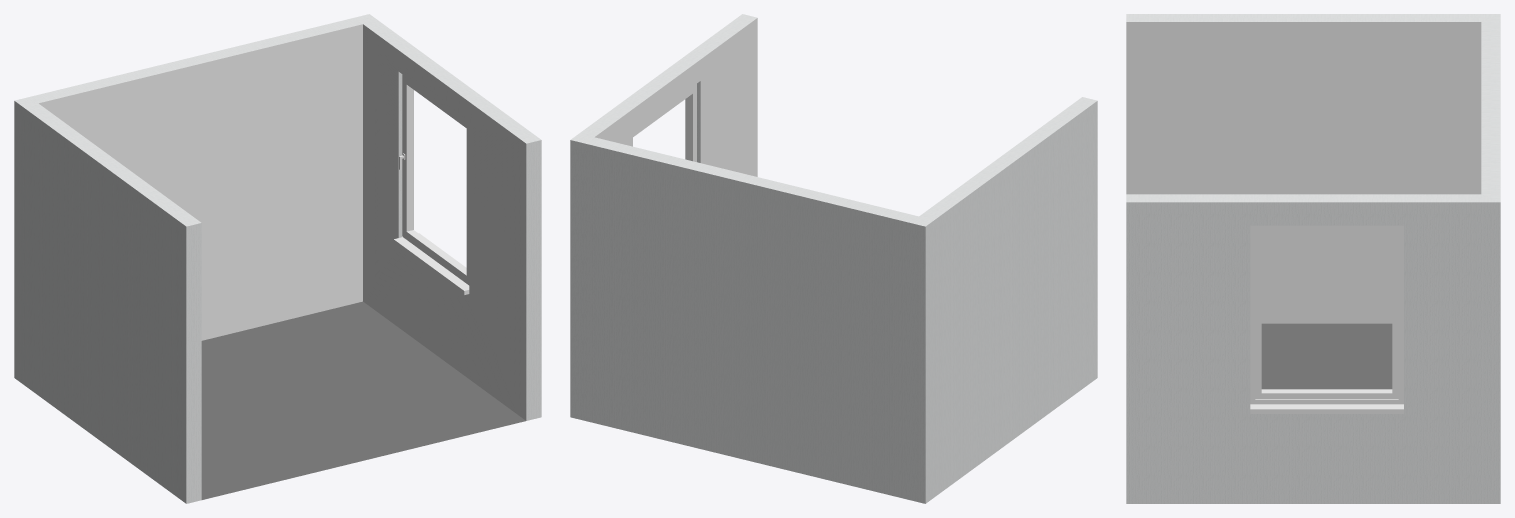
Rendered from habitacion2.glb.
3 renders of one model, left to right at view 1: azimuth 30°, elevation 25°; view 2: azimuth 150°, elevation 25°; view 3: azimuth 270°, elevation 25°, orthographic. The views are drawn at different scales.
Size of what is drawn, in the model's own units: 3.53 by 2.6 by 2.92.
4 materials, 1 textured.
